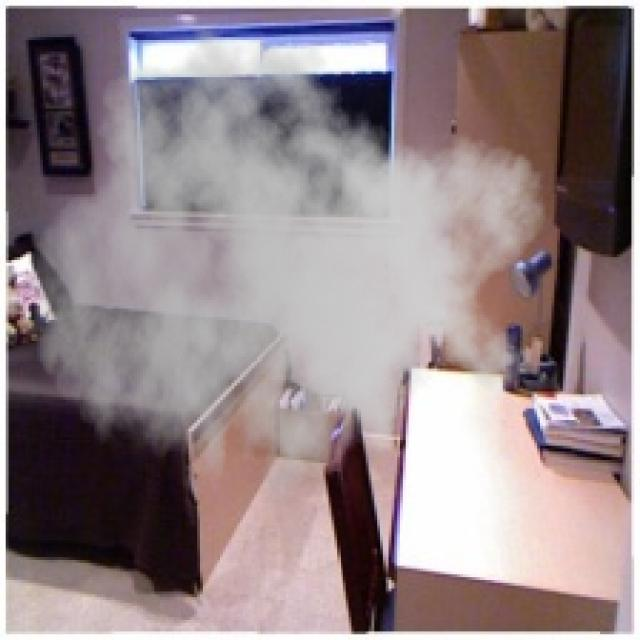smoke: (29, 9, 548, 534)
